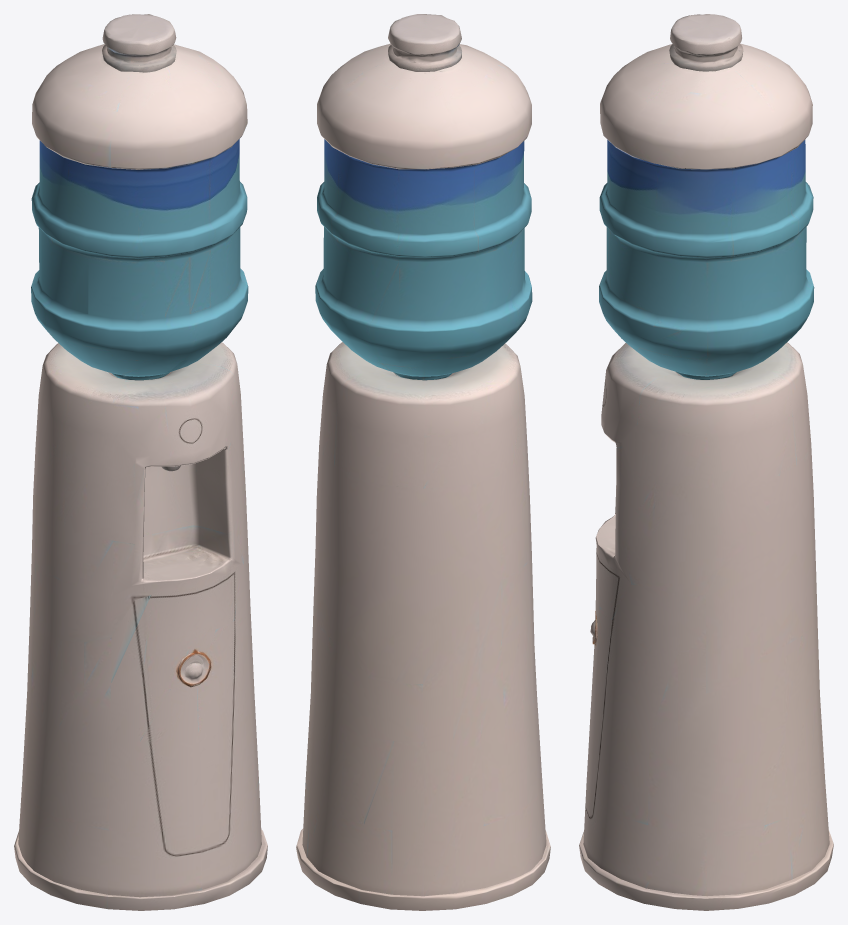
File: water_cooler.glb
3 views of the same model, side by side, from view 1: azimuth 30°, elevation 25°; view 2: azimuth 150°, elevation 25°; view 3: azimuth 270°, elevation 25° (orthographic).
Bounding box in the file's own units: 0.2781 × 1 × 0.2782.
Materials: 1 (1 with a texture image).
